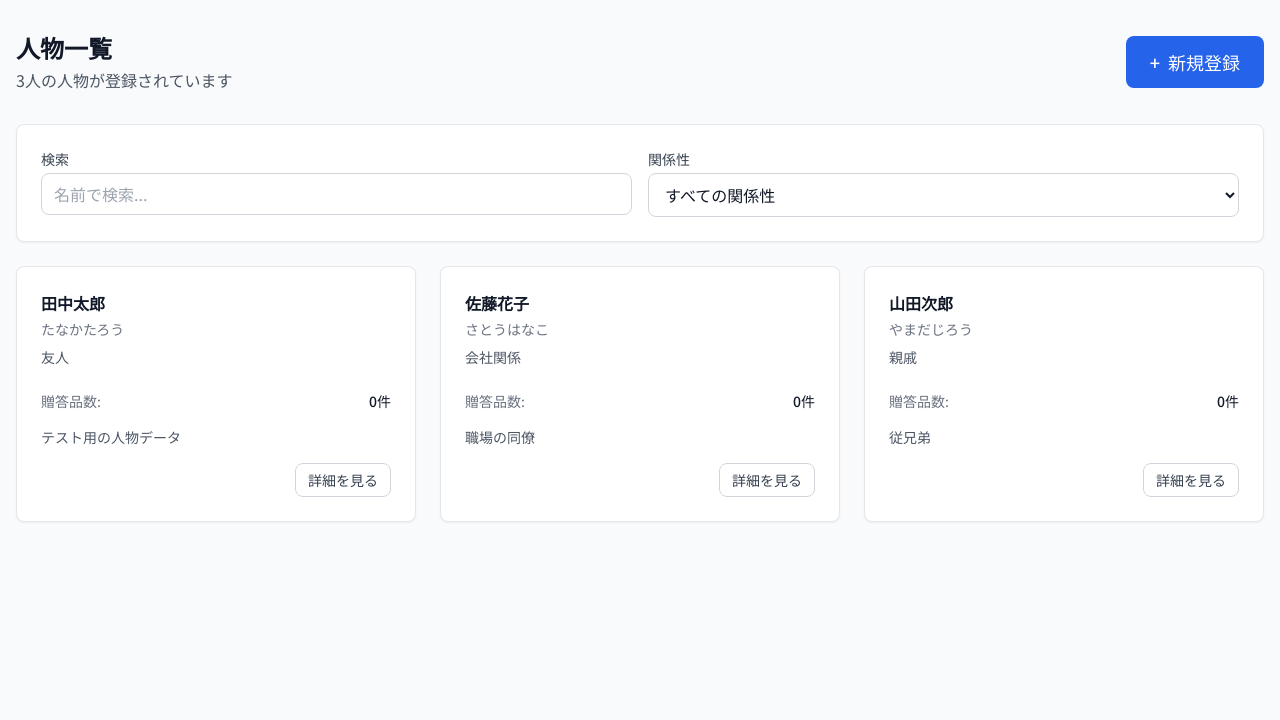
Test: PersonList › 検索結果がない場合のメッセージが表示される
Expected: the heading "人物一覧" is shown, [16,30,112,65]
Step 1. Type "存在しない名前" into the field with placeholder "名前で検索..." → [336, 194], box [41,173,632,215]
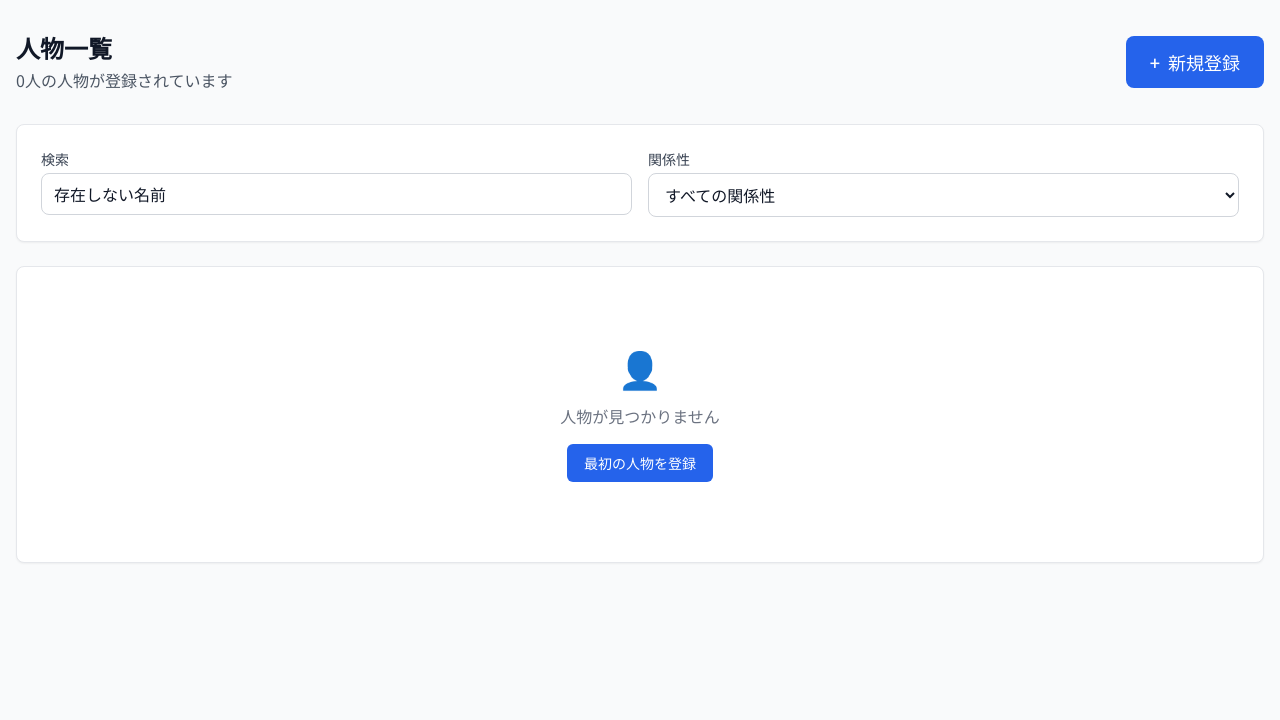
Expected: the text "人物が見つかりません" is shown, [560,404,720,428]
